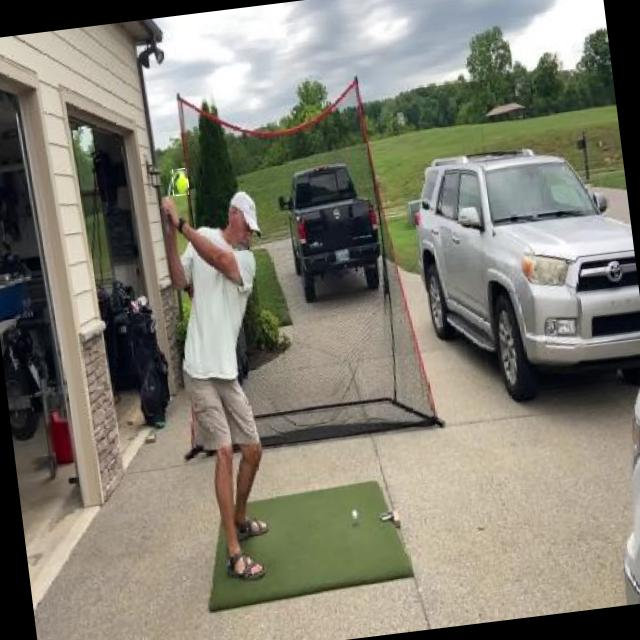club head: (170, 167, 190, 196)
